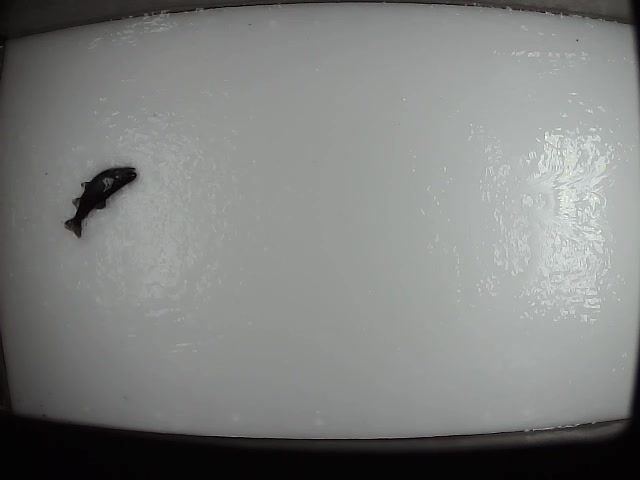Fish: (64, 166, 137, 238)
